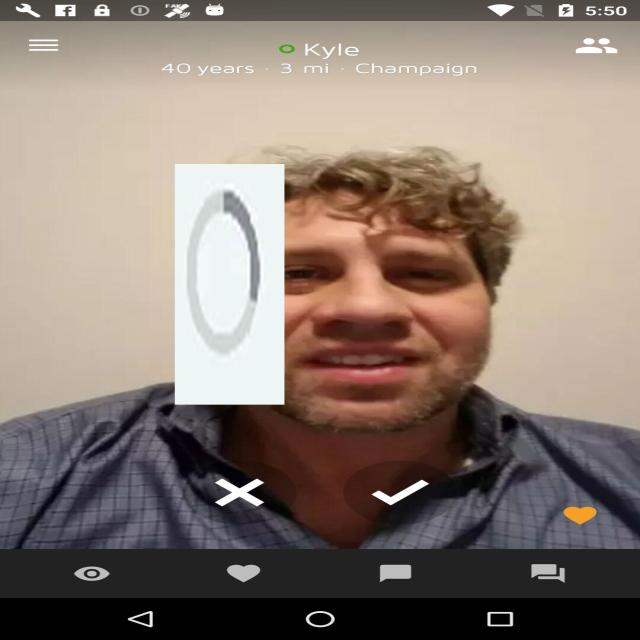misdirection: (175, 164, 284, 405)
